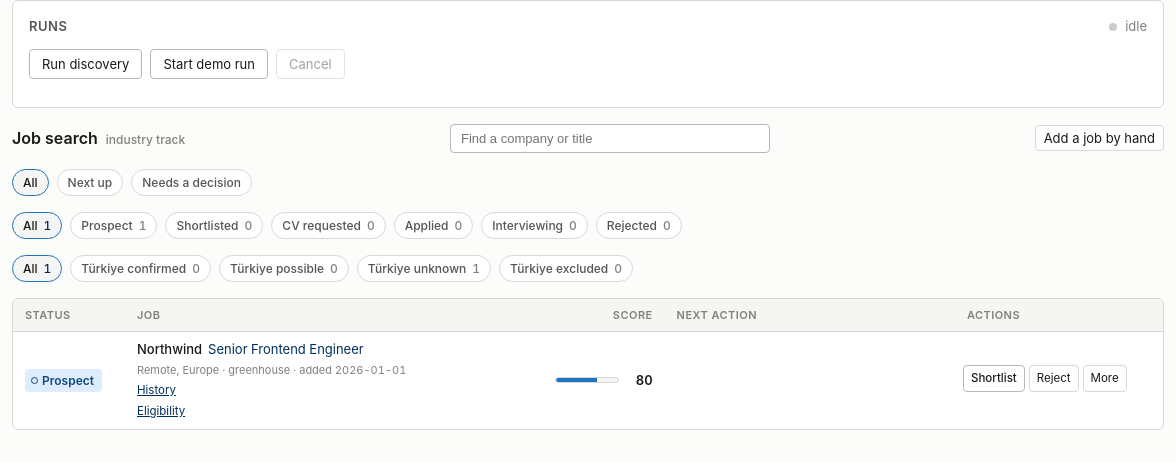
Test: every verb the CLI has is reachable on the page
This screenshot has width=1176, height=462.
Click the button with aria-label "More actions" at (1105, 378), box [1082, 365, 1127, 392]
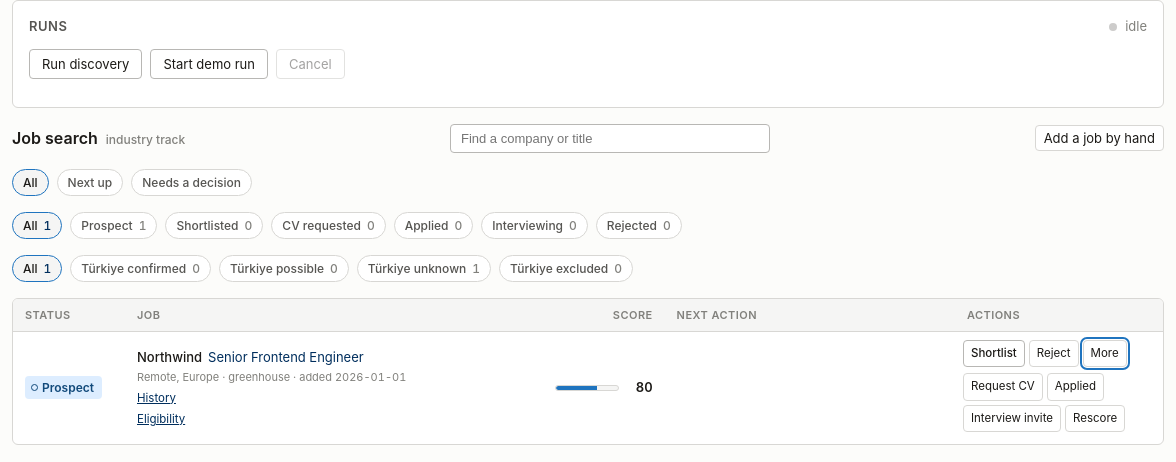
Check: the button "Request CV" is shown, box [963, 373, 1043, 401]
Check: the button "Applied" is shown, box [1047, 373, 1104, 401]
Check: the button "Interview invite" is shown, box [963, 404, 1061, 432]
